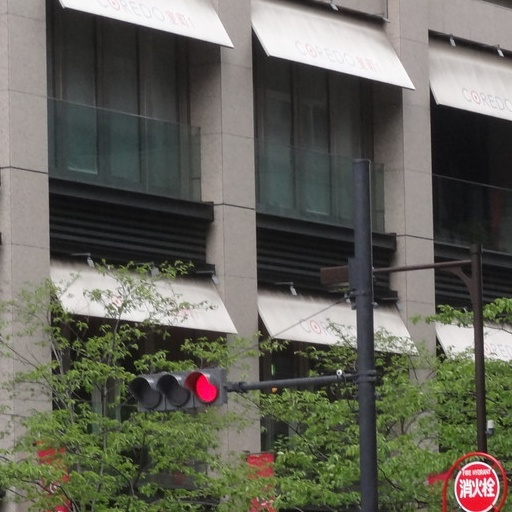Traffic_Signal_Red: (112, 362, 234, 416)
